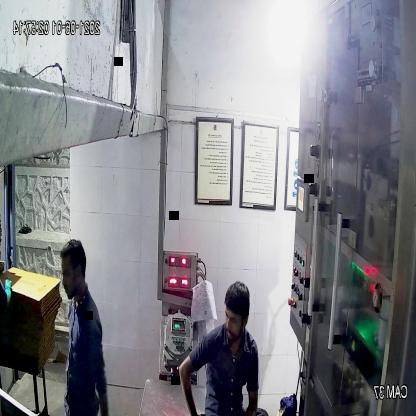no_goggles: (221, 310, 250, 332)
